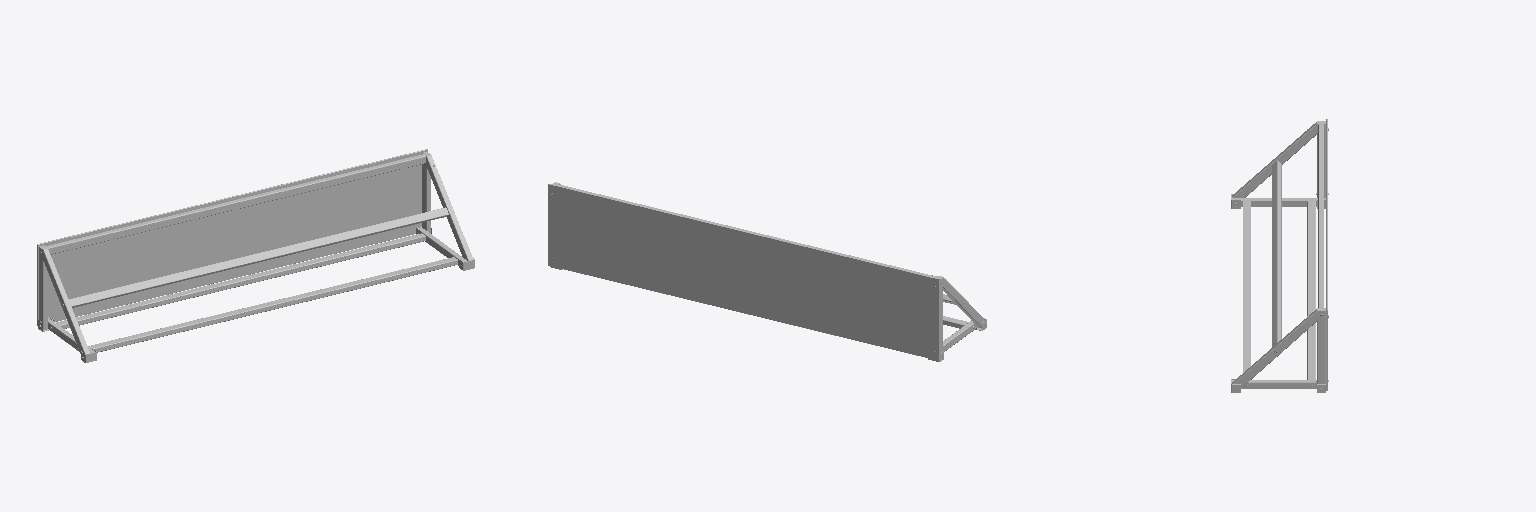
Rendered from board_01_obj.obj.
The picture shows the model from 3 angles: view 1: azimuth 30°, elevation 25°; view 2: azimuth 150°, elevation 25°; view 3: azimuth 270°, elevation 25°; orthographic projection.
Parts seen in each view (by area): view 1: Box239, steel463, steel462, steel461, steel460, steel458, steel466, steel459; view 2: Box239, steel458, steel463; view 3: steel462, steel460, steel461, steel463, steel466, steel458, steel465, steel464, Box239.
Boxes of the visible parts, <box> form: Box239: <box>37,149,427,325</box>; steel463: <box>46,154,425,254</box>; steel462: <box>69,207,448,307</box>; steel461: <box>88,257,457,352</box>; steel460: <box>56,233,425,328</box>; steel458: <box>43,249,89,353</box>; steel466: <box>426,155,473,260</box>; steel459: <box>39,245,47,329</box>; Box239: <box>548,184,939,360</box>; steel458: <box>943,277,984,328</box>; steel463: <box>558,185,936,277</box>; steel462: <box>1272,160,1281,346</box>; steel460: <box>1307,201,1315,379</box>; steel461: <box>1243,201,1250,372</box>; steel463: <box>1318,124,1323,307</box>; steel466: <box>1232,309,1317,387</box>; steel458: <box>1232,122,1317,197</box>; steel465: <box>1317,308,1325,383</box>; steel464: <box>1232,380,1316,388</box>; Box239: <box>1326,119,1327,390</box>.
Bounding box in the file's own units: 509 × 104 × 110.